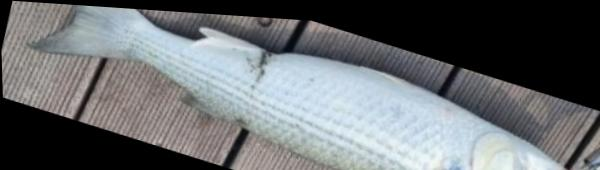fish: (27, 4, 573, 170)
